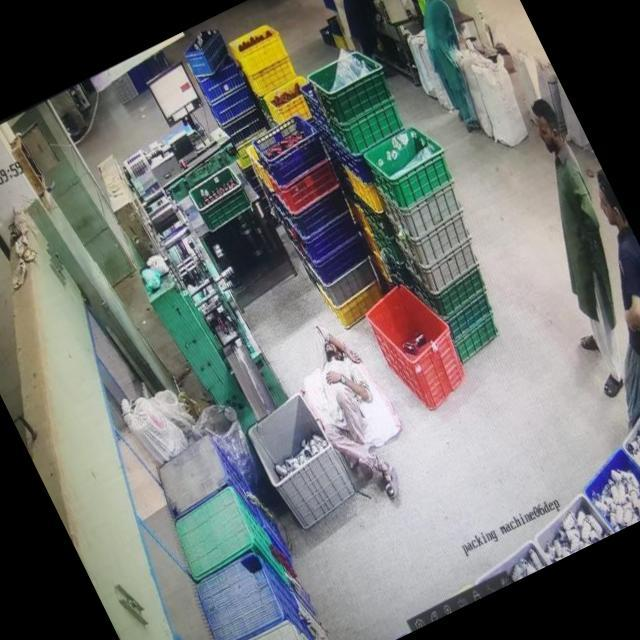person: (476, 94, 640, 404), (527, 169, 640, 418), (287, 322, 424, 514), (399, 0, 510, 136), (381, 0, 419, 22)
